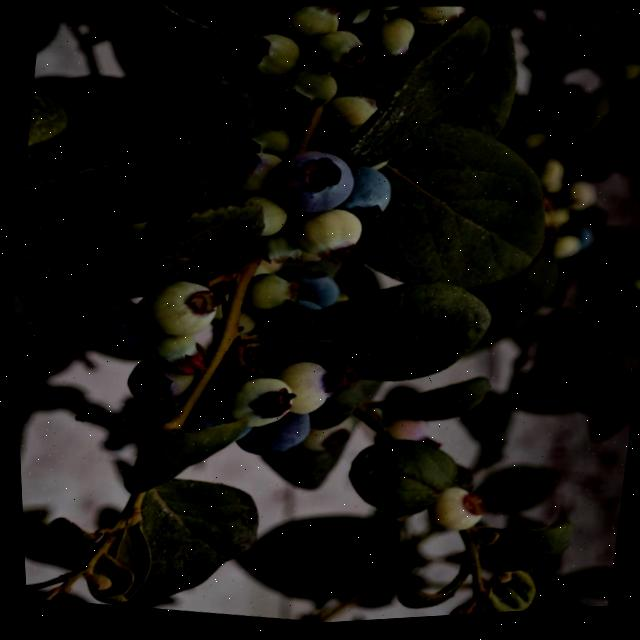RipeBlueBerry: (237, 393, 317, 470), (336, 140, 402, 230)
Semi-RipeBlueBerry: (57, 263, 160, 357), (264, 128, 356, 222)
UnripeBlueBerry: (137, 258, 239, 343), (273, 344, 369, 426), (213, 9, 311, 89), (422, 467, 491, 549)
